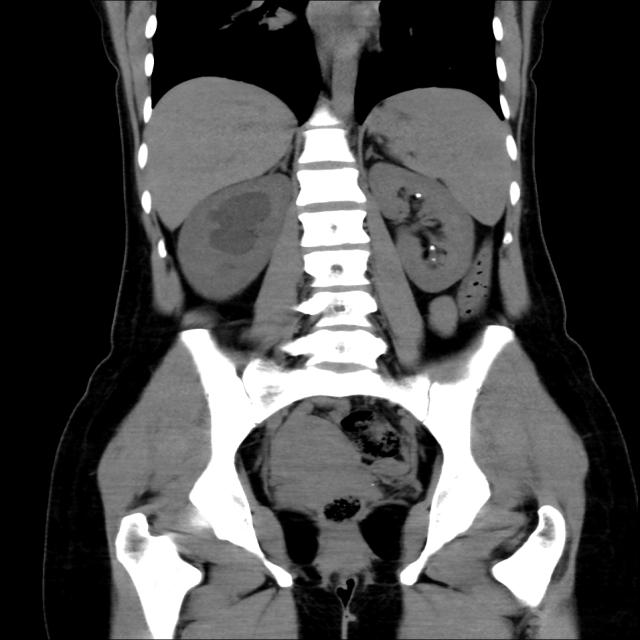kidneystone: (427, 240, 442, 258), (412, 192, 423, 200)
